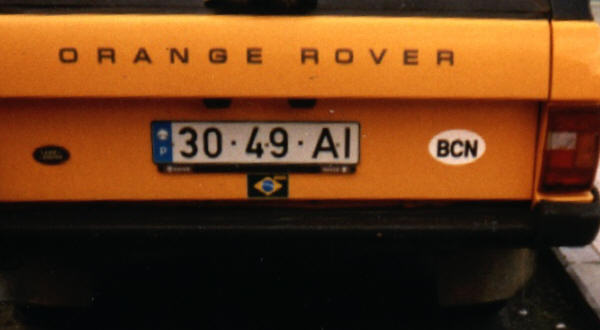license_plate: (152, 120, 361, 164)
